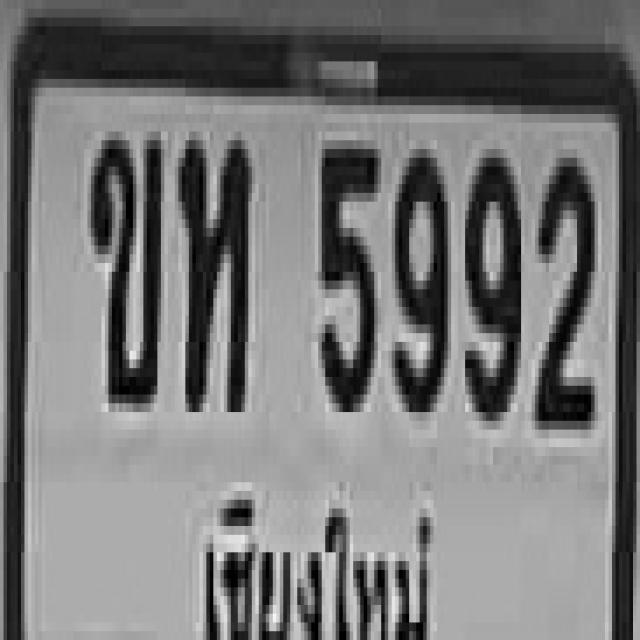11KhorKhai: (88, 123, 158, 394)
2: (532, 149, 591, 421)
5: (318, 132, 374, 404)
50HorHeep: (175, 132, 248, 404)
9: (462, 144, 518, 408), (392, 140, 444, 404)
ChiangMai: (182, 461, 448, 640)
